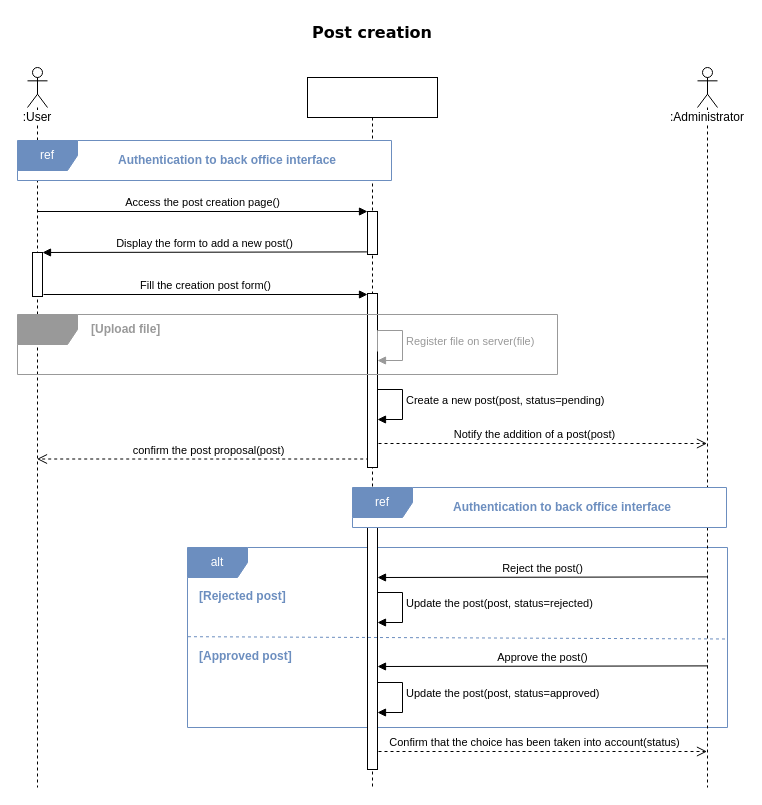
Image size: 762x805. Some labels were removed from this diagram. Here are the shapes that lost their labels. From the top down, the box of each, then its label:
(16, 314, 558, 374): opt
(306, 76, 438, 788): :System
